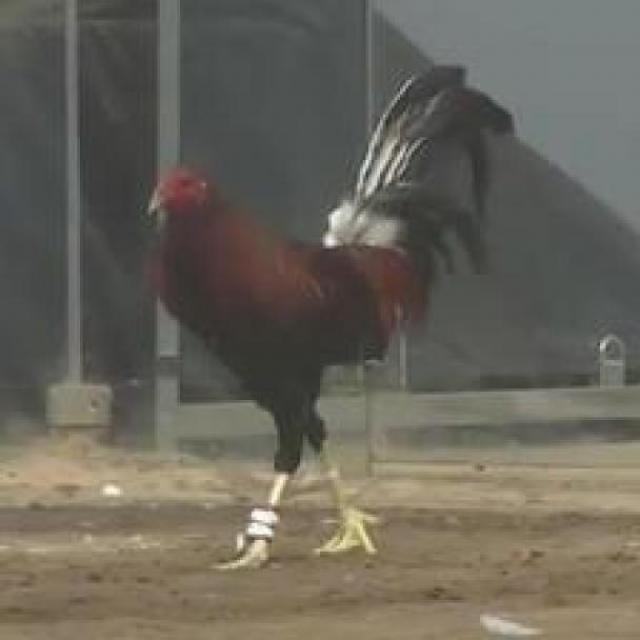Chicken: (99, 68, 515, 586)
